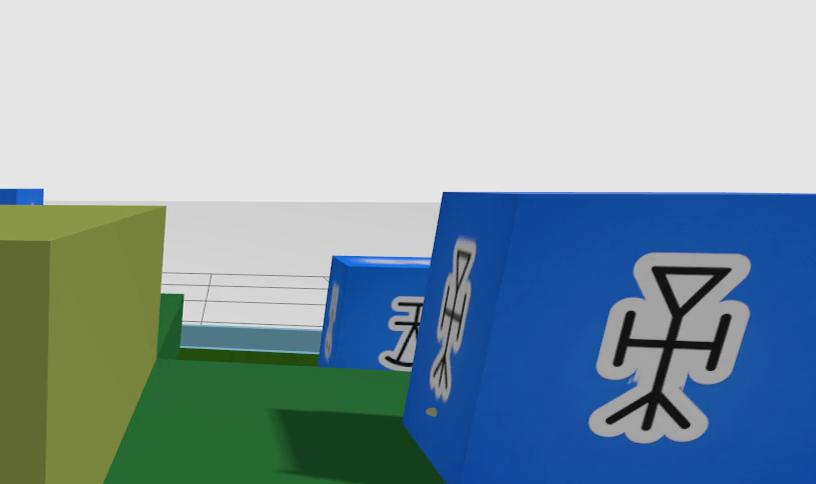KFS_REAL: (401, 193, 815, 484), (589, 253, 750, 443), (320, 256, 428, 370), (430, 237, 475, 400), (379, 296, 422, 370)
